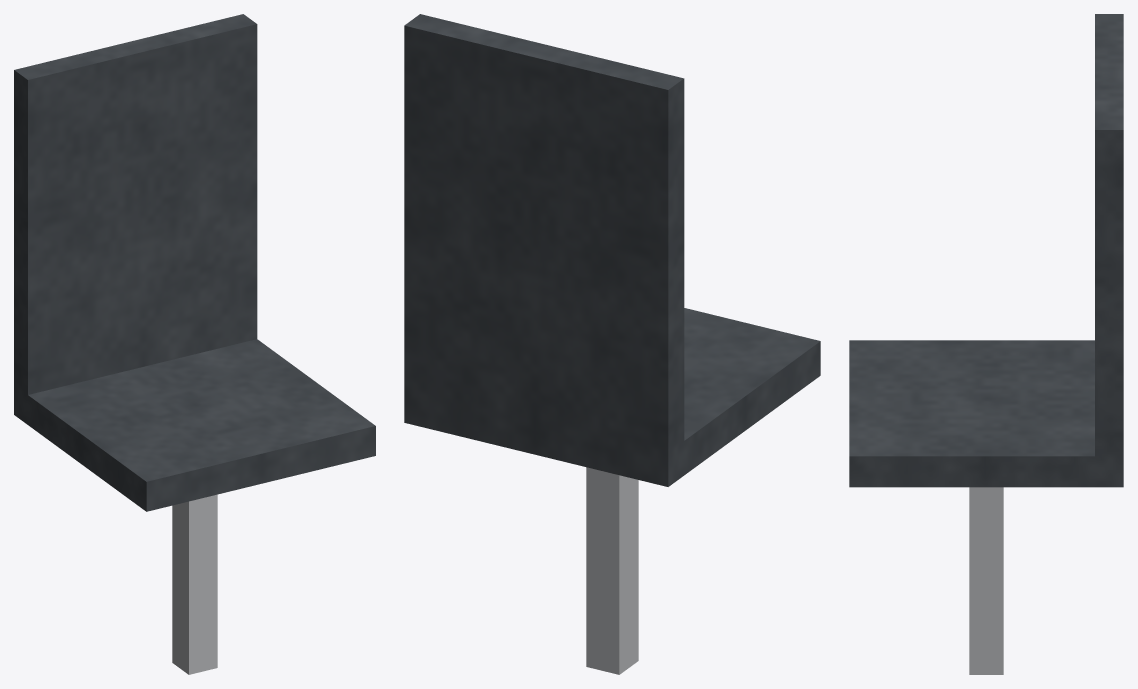
File: chair.glb
3 renders of one model, left to right at view 1: azimuth 30°, elevation 25°; view 2: azimuth 150°, elevation 25°; view 3: azimuth 270°, elevation 25°, orthographic. The views are drawn at different scales.
Parts seen in each view (by area): view 1: Chair; view 2: Chair; view 3: Chair.
Part boxes in pixels (bbox=[...]): Chair: bbox=[14, 14, 375, 674]; Chair: bbox=[404, 14, 820, 674]; Chair: bbox=[849, 14, 1123, 674].
Bounding box in the file's own units: 0.48 × 1.15 × 0.48.
Materials: 2 (1 with a texture image).
